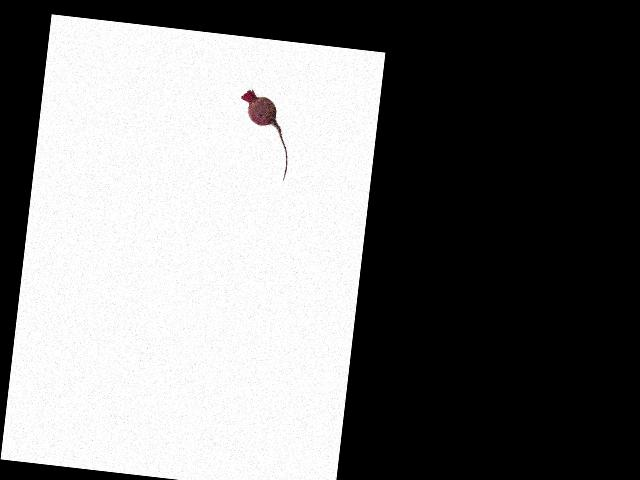beet: (232, 89, 295, 181)
